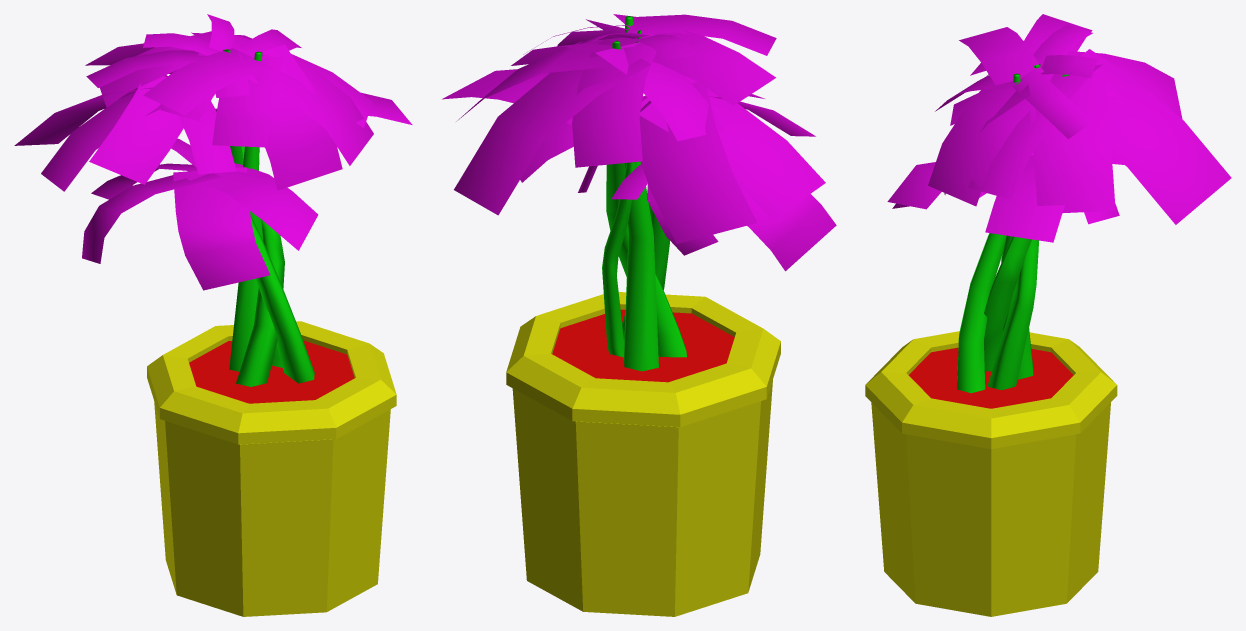
The model's file is Planta.fbx.
The picture shows the model from 3 angles, left to right: view 1: azimuth 30°, elevation 25°; view 2: azimuth 150°, elevation 25°; view 3: azimuth 270°, elevation 25°; orthographic projection. The views are drawn at different scales.
Parts seen in each view (by area): view 1: Maceta.002; view 2: Maceta.002; view 3: Maceta.002.
Boxes of the visible parts, left/top/right/bottom form: Maceta.002: left=14, top=14, right=412, bottom=616; Maceta.002: left=442, top=14, right=836, bottom=616; Maceta.002: left=865, top=14, right=1231, bottom=616.
Size of the model in its own units: 356 by 524 by 343.
